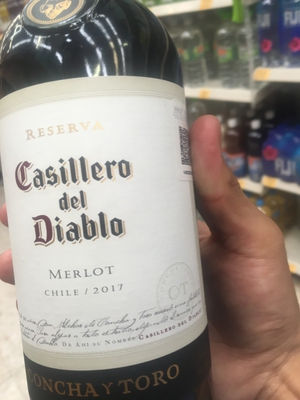casillero del diablo merlot: (1, 9, 215, 400)
